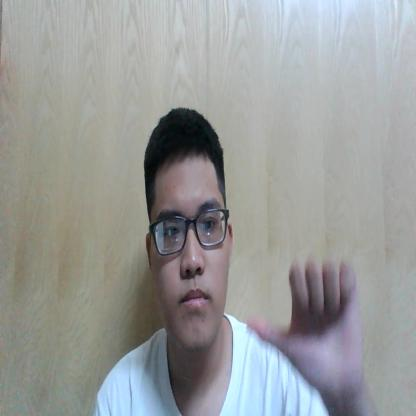right: (246, 258, 364, 396)
